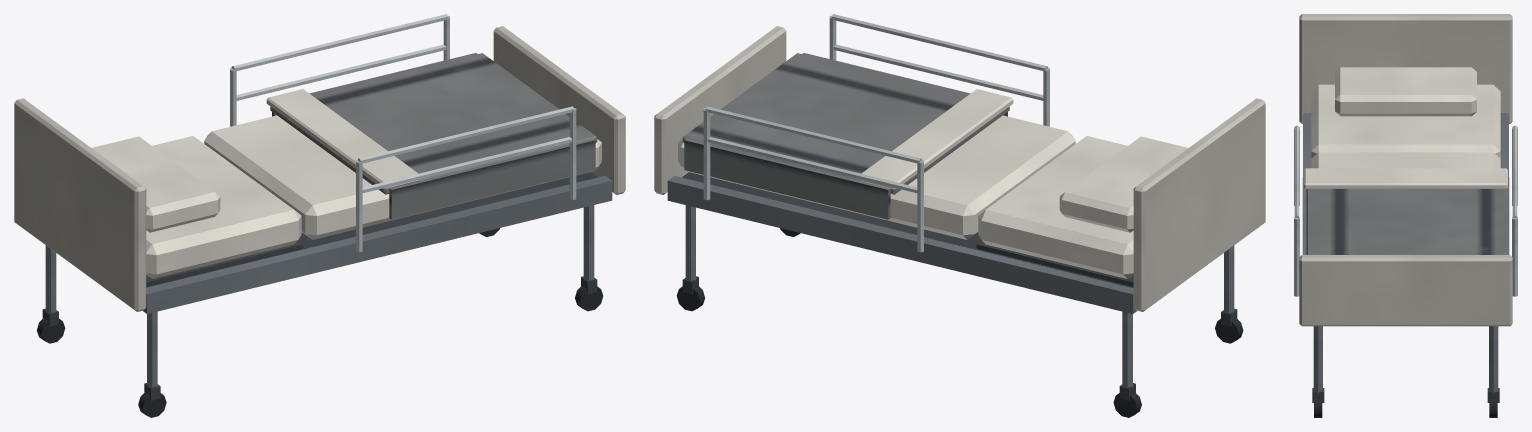
Rendered from infirmary_bed.fbx.
3 views of the same model, side by side, from view 1: azimuth 30°, elevation 25°; view 2: azimuth 150°, elevation 25°; view 3: azimuth 270°, elevation 25° (orthographic). The views are drawn at different scales.
Parts seen in each view (by area): view 1: infirmary_bed, infirmary_bed_back; view 2: infirmary_bed, infirmary_bed_back; view 3: infirmary_bed, infirmary_bed_back.
Boxes of the visible parts, box(x1,y1,x2,y2) form: infirmary_bed: box(14, 14, 625, 417); infirmary_bed_back: box(92, 136, 303, 286); infirmary_bed: box(654, 14, 1265, 417); infirmary_bed_back: box(976, 136, 1188, 286); infirmary_bed: box(1294, 14, 1517, 417); infirmary_bed_back: box(1311, 67, 1500, 158).
Size of the model in its own units: 2.07 by 0.9676 by 0.9442.
Materials: 1 (1 with a texture image).
